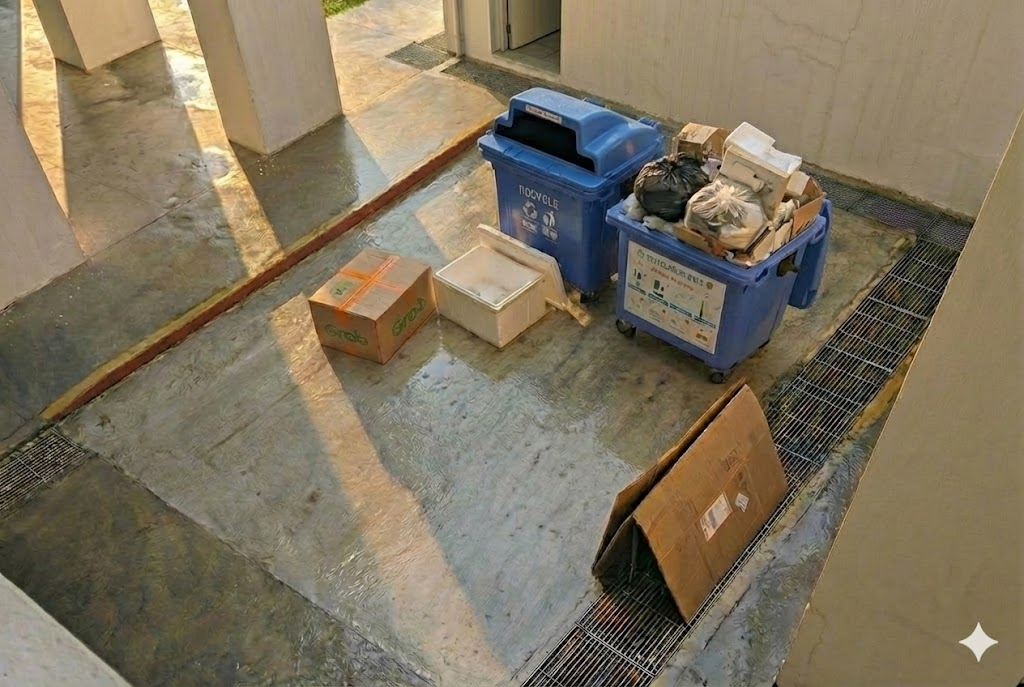bin_empty: (479, 88, 663, 294)
bin_full: (606, 123, 830, 381)
bulk_waste: (592, 382, 786, 621), (434, 224, 569, 348), (309, 248, 435, 363)
